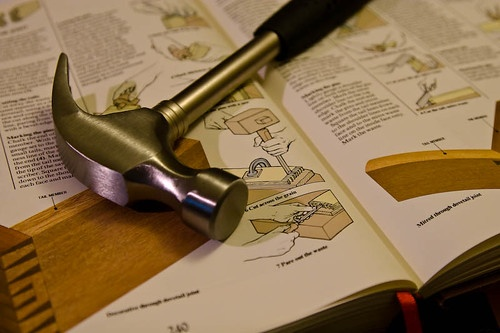hammer: (50, 0, 374, 240)
